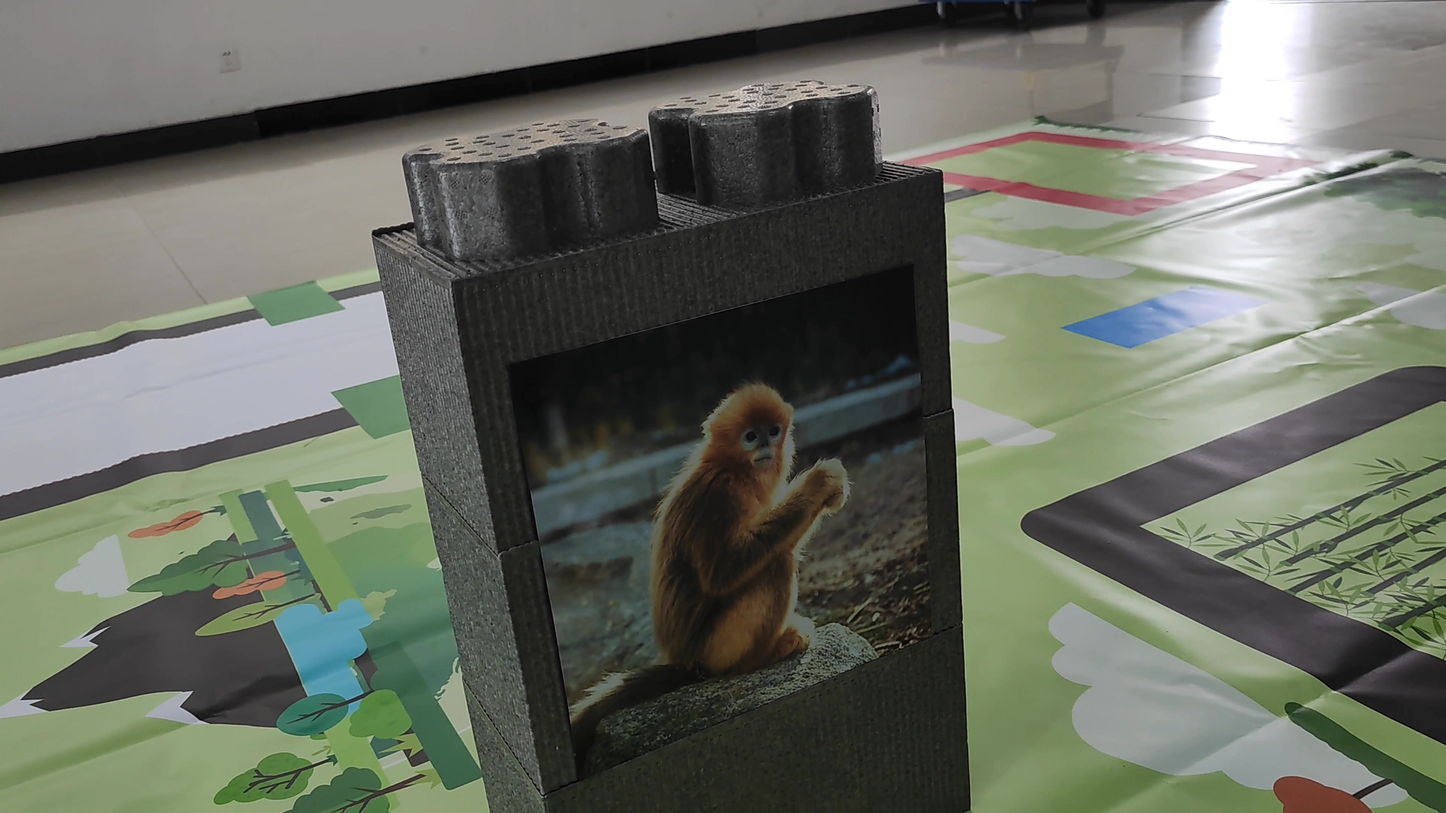monkey: (561, 376, 855, 741)
